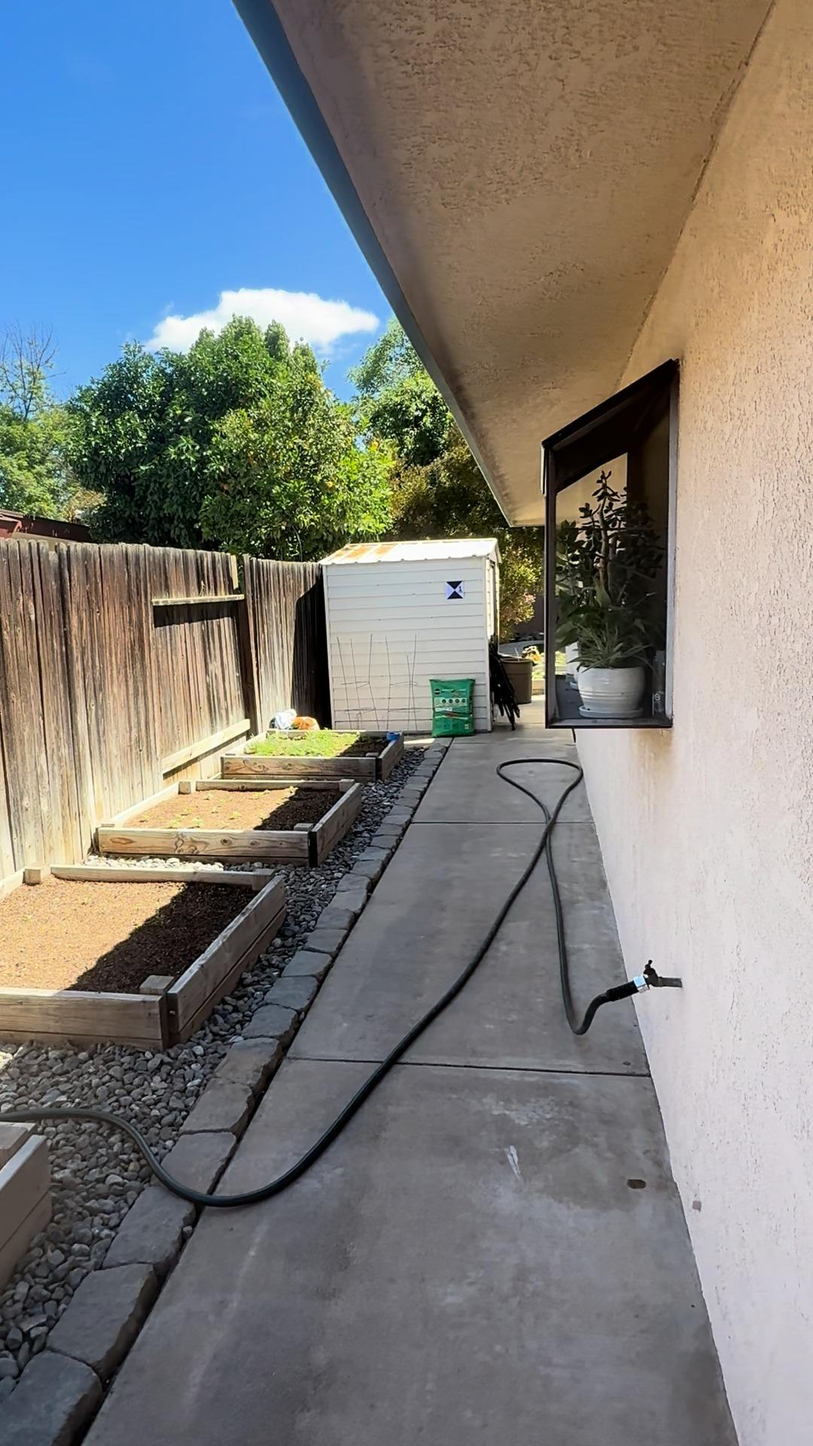target1: (445, 581, 466, 600)
